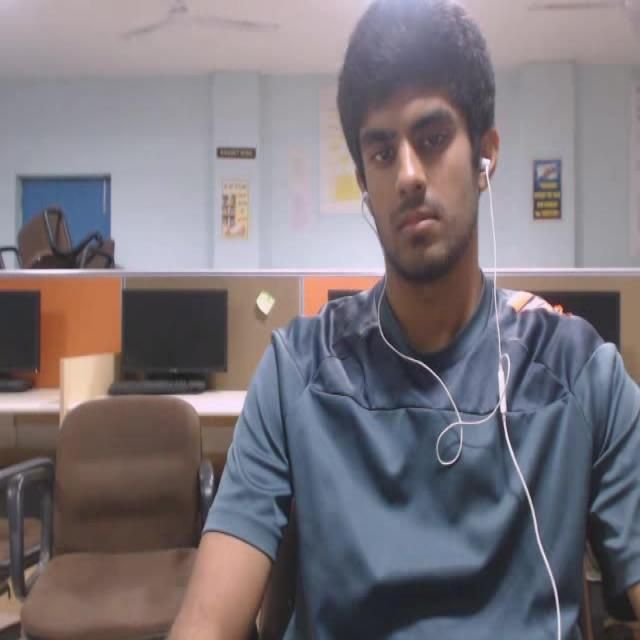Bored: (328, 0, 511, 297)
